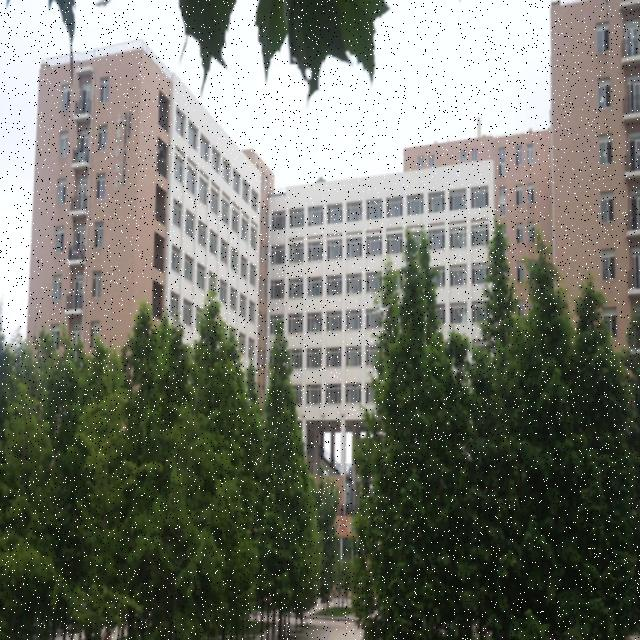UAV: (371, 305, 392, 322)
